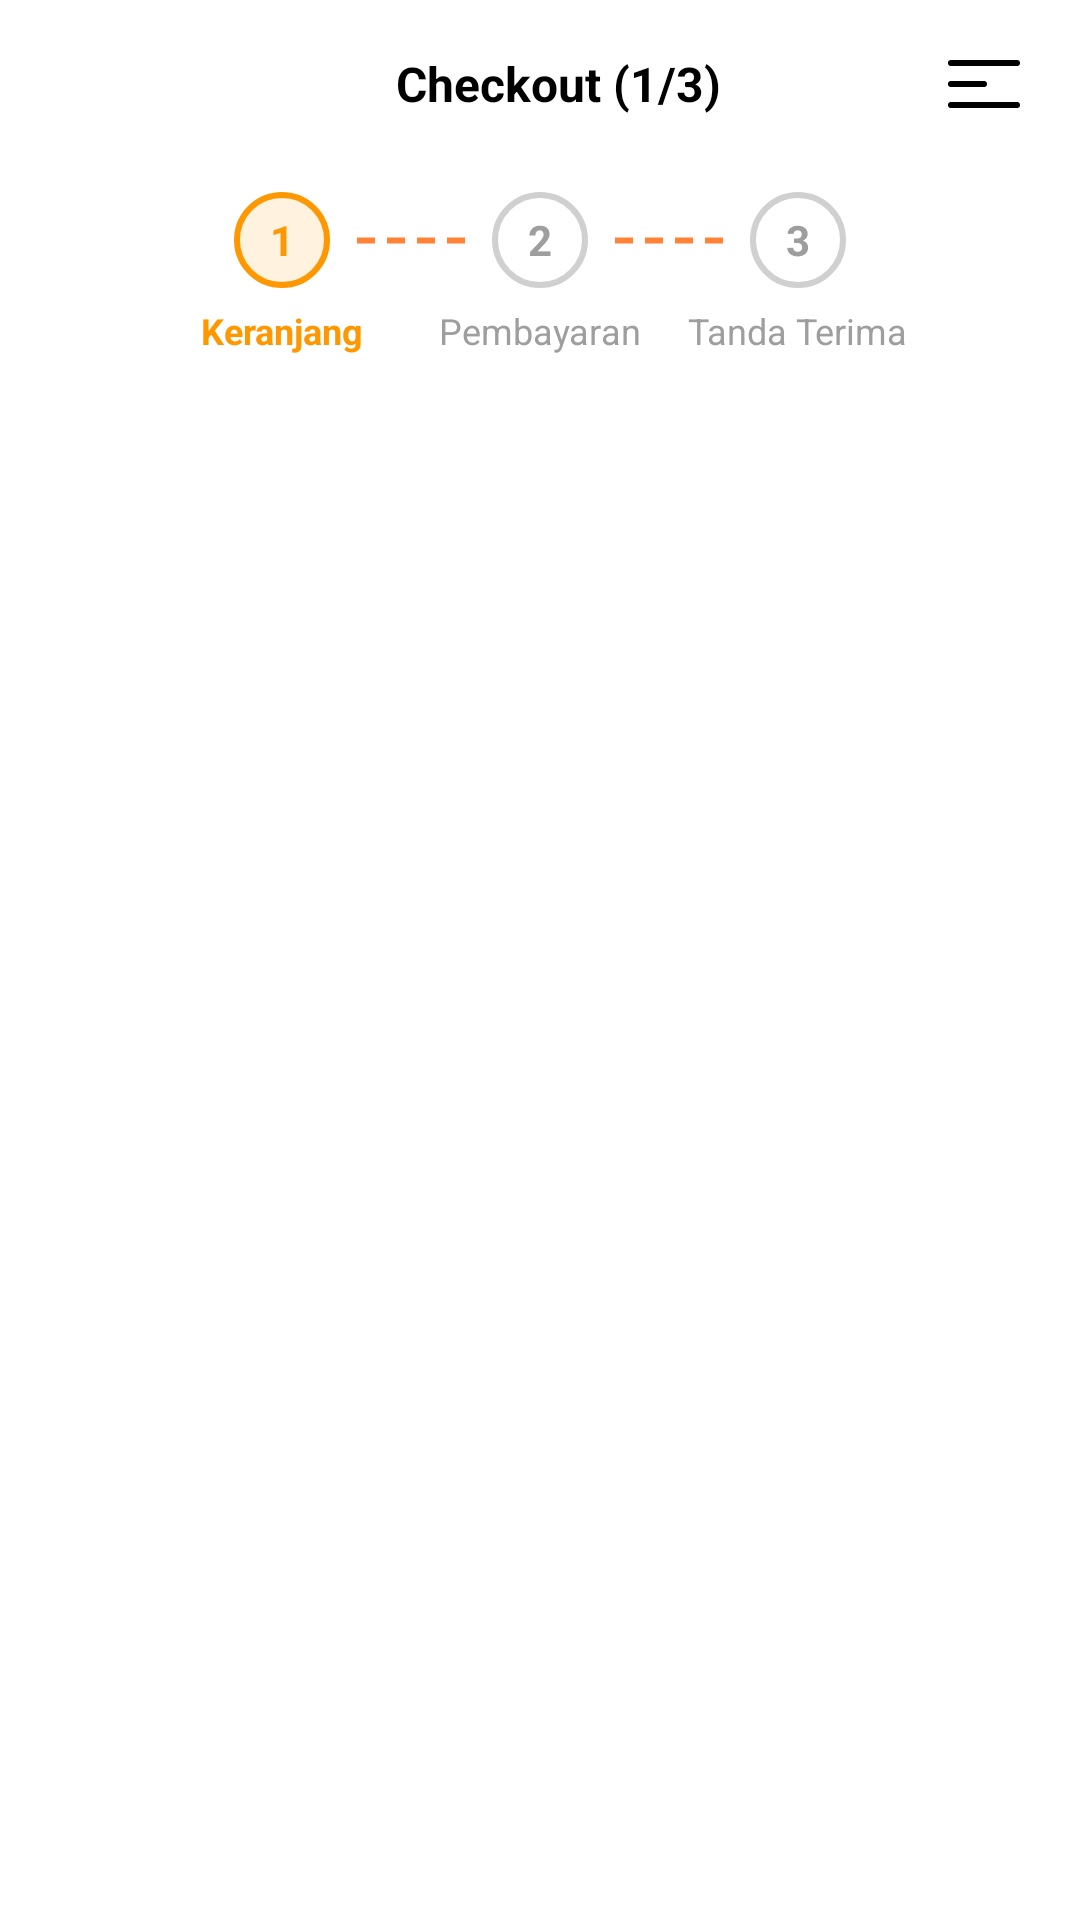

Screen size 1080 x 1920. Icon name, then its center in pixels as (x,y):
hamburger: (984,84)
